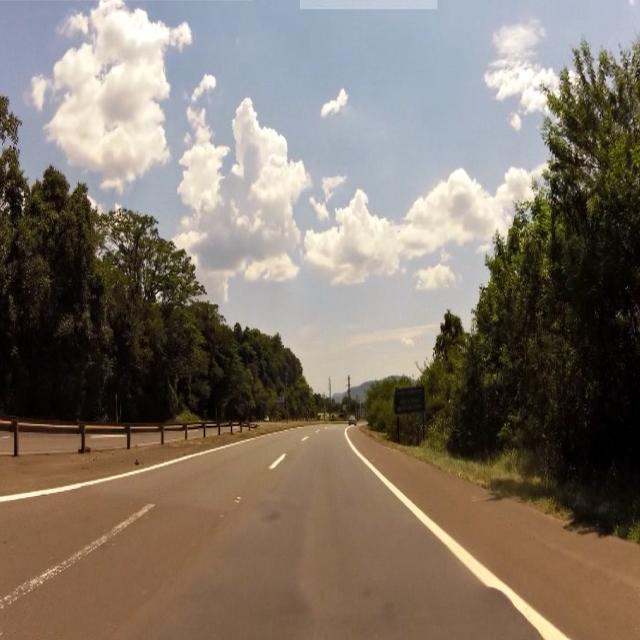LOC-6: (393, 388, 429, 417)
